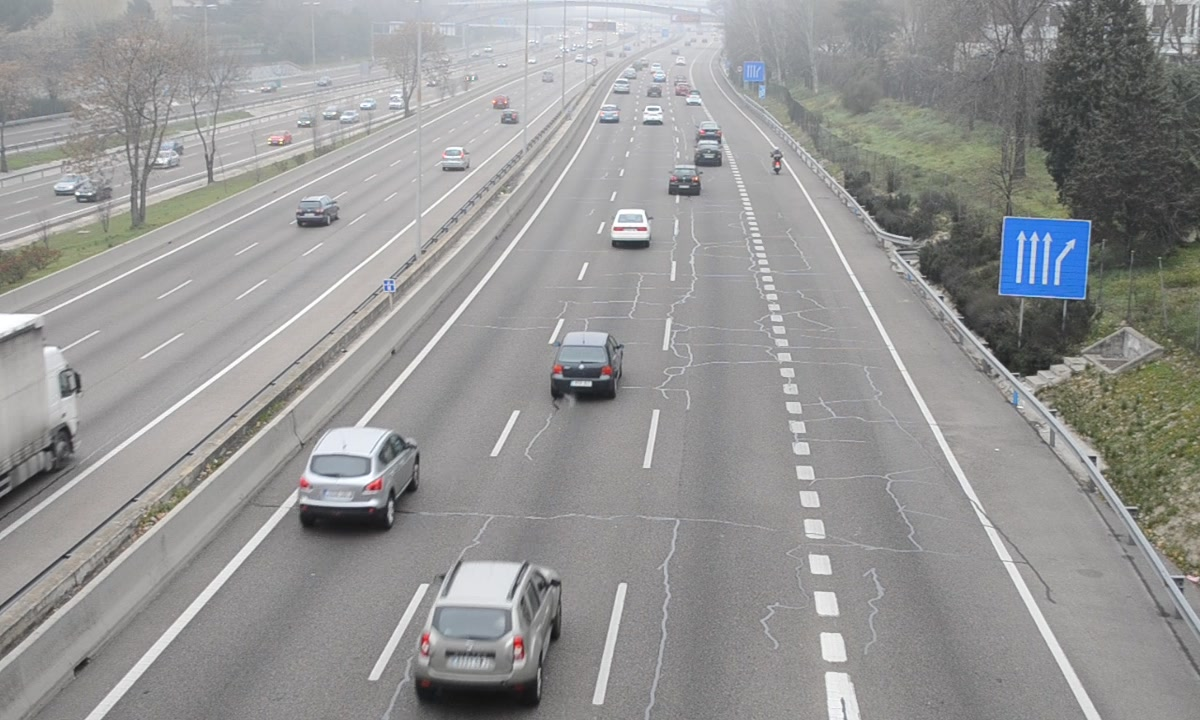car: (414, 558, 562, 693), (301, 427, 418, 508), (551, 331, 623, 395), (610, 207, 652, 245), (667, 165, 702, 196), (695, 141, 724, 166), (640, 103, 666, 127), (697, 121, 724, 142)
motorcycle: (771, 147, 784, 176)
